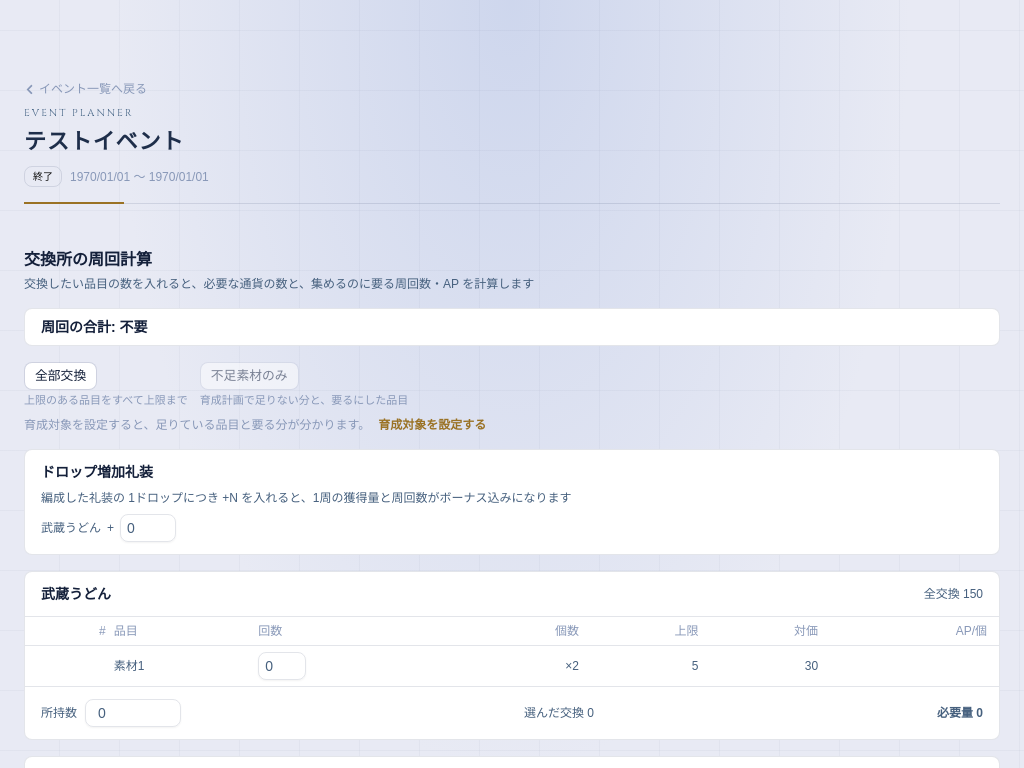
it: EventHubClient › ドロップの統計が無いときは必要量を出し、周回の代わりに出せない旨を出す
Replace the text in the number field named "素材1 の交換回数" with "2". click: (282, 666)
box: [258,652,306,680]
(page scrolled)
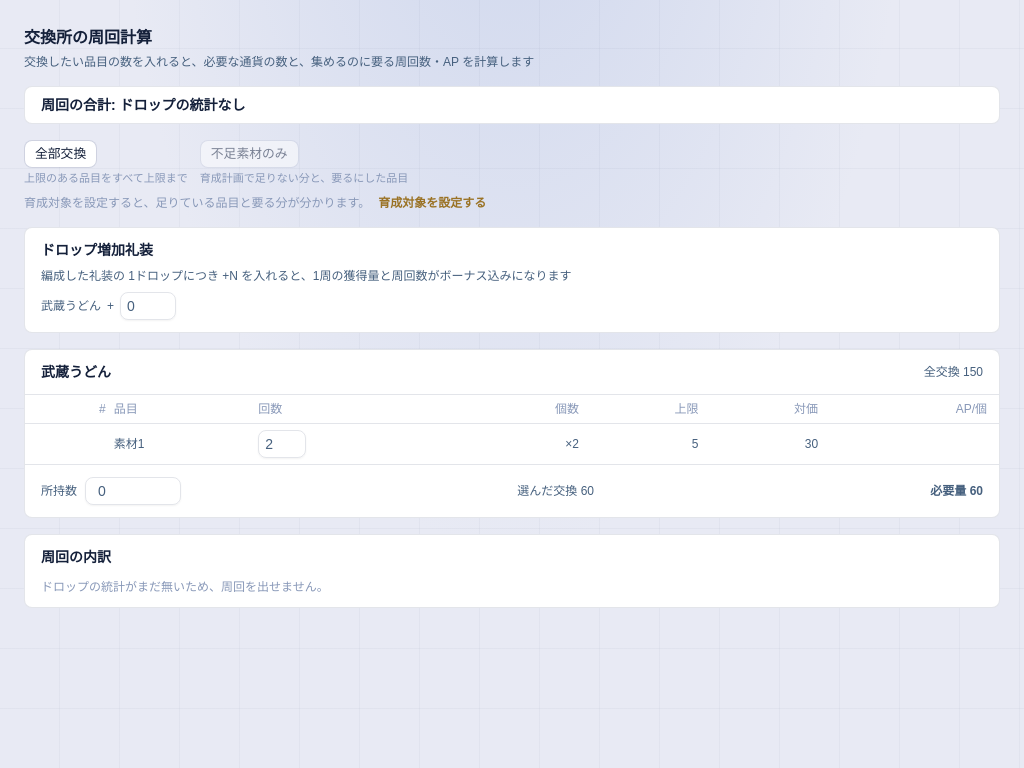
Expected: the text "必要量 60" is shown, [930,482,983,498]
Expected: the text "ドロップの統計がまだ無いため、周回を出せません。" is shown, [41,580,329,594]
